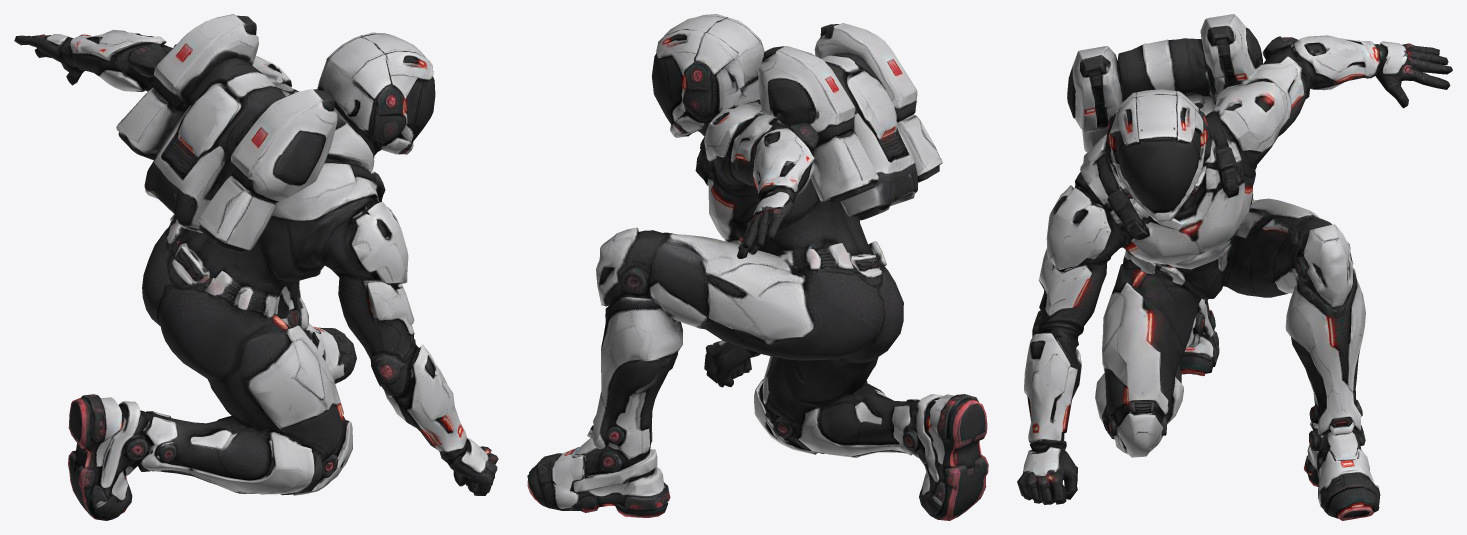
File: HERO_B.glb
3 renders of one model, left to right at view 1: azimuth 30°, elevation 25°; view 2: azimuth 150°, elevation 25°; view 3: azimuth 270°, elevation 25°, orthographic. The views are drawn at different scales.
Size of the model in its own units: 0.8542 by 1 by 0.9343.
1 material, 1 textured.
